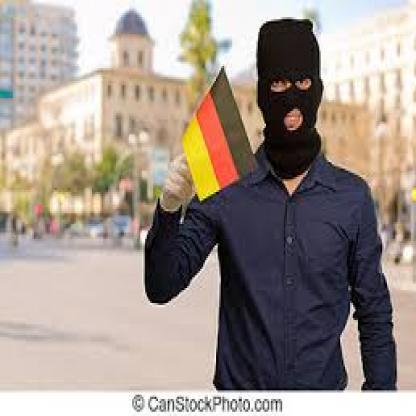criminal: (143, 18, 416, 392)
